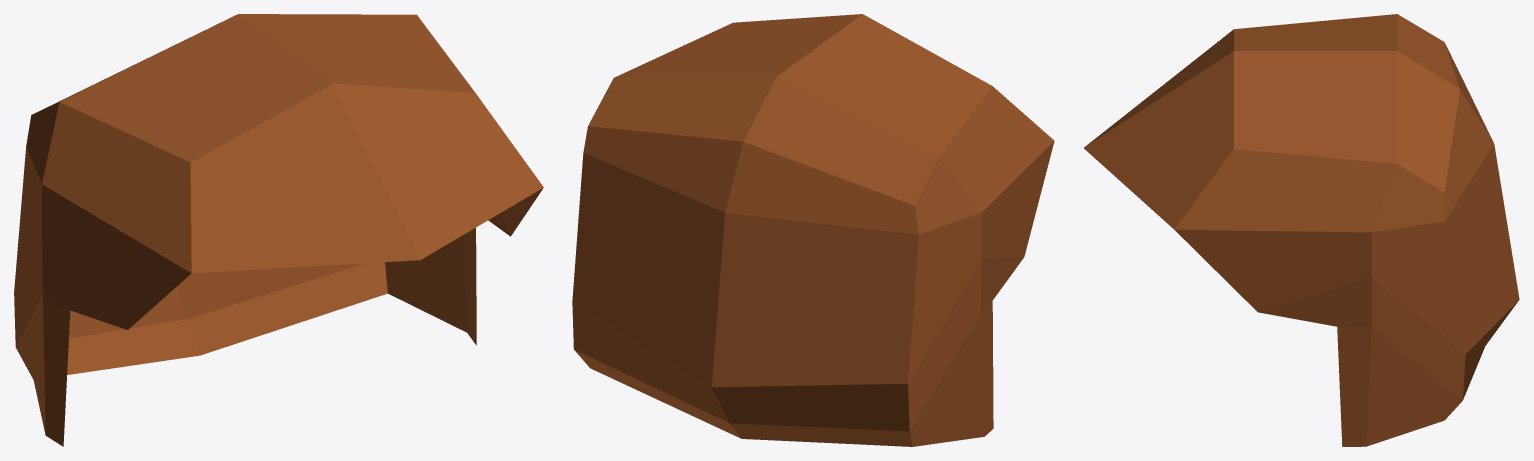
3 renders of one model, left to right at view 1: azimuth 30°, elevation 25°; view 2: azimuth 150°, elevation 25°; view 3: azimuth 270°, elevation 25°, orthographic. The views are drawn at different scales.
Visible parts, largest first — view 1: Hair; view 2: Hair; view 3: Hair.
Boxes of the visible parts, x1,y1,x2,y2 form: Hair: (14,14,543,446); Hair: (572,14,1054,446); Hair: (1084,14,1519,446).
Size of the model in its own units: 1.8 by 1.5 by 1.87.
Materials: 1 (1 with a texture image).
